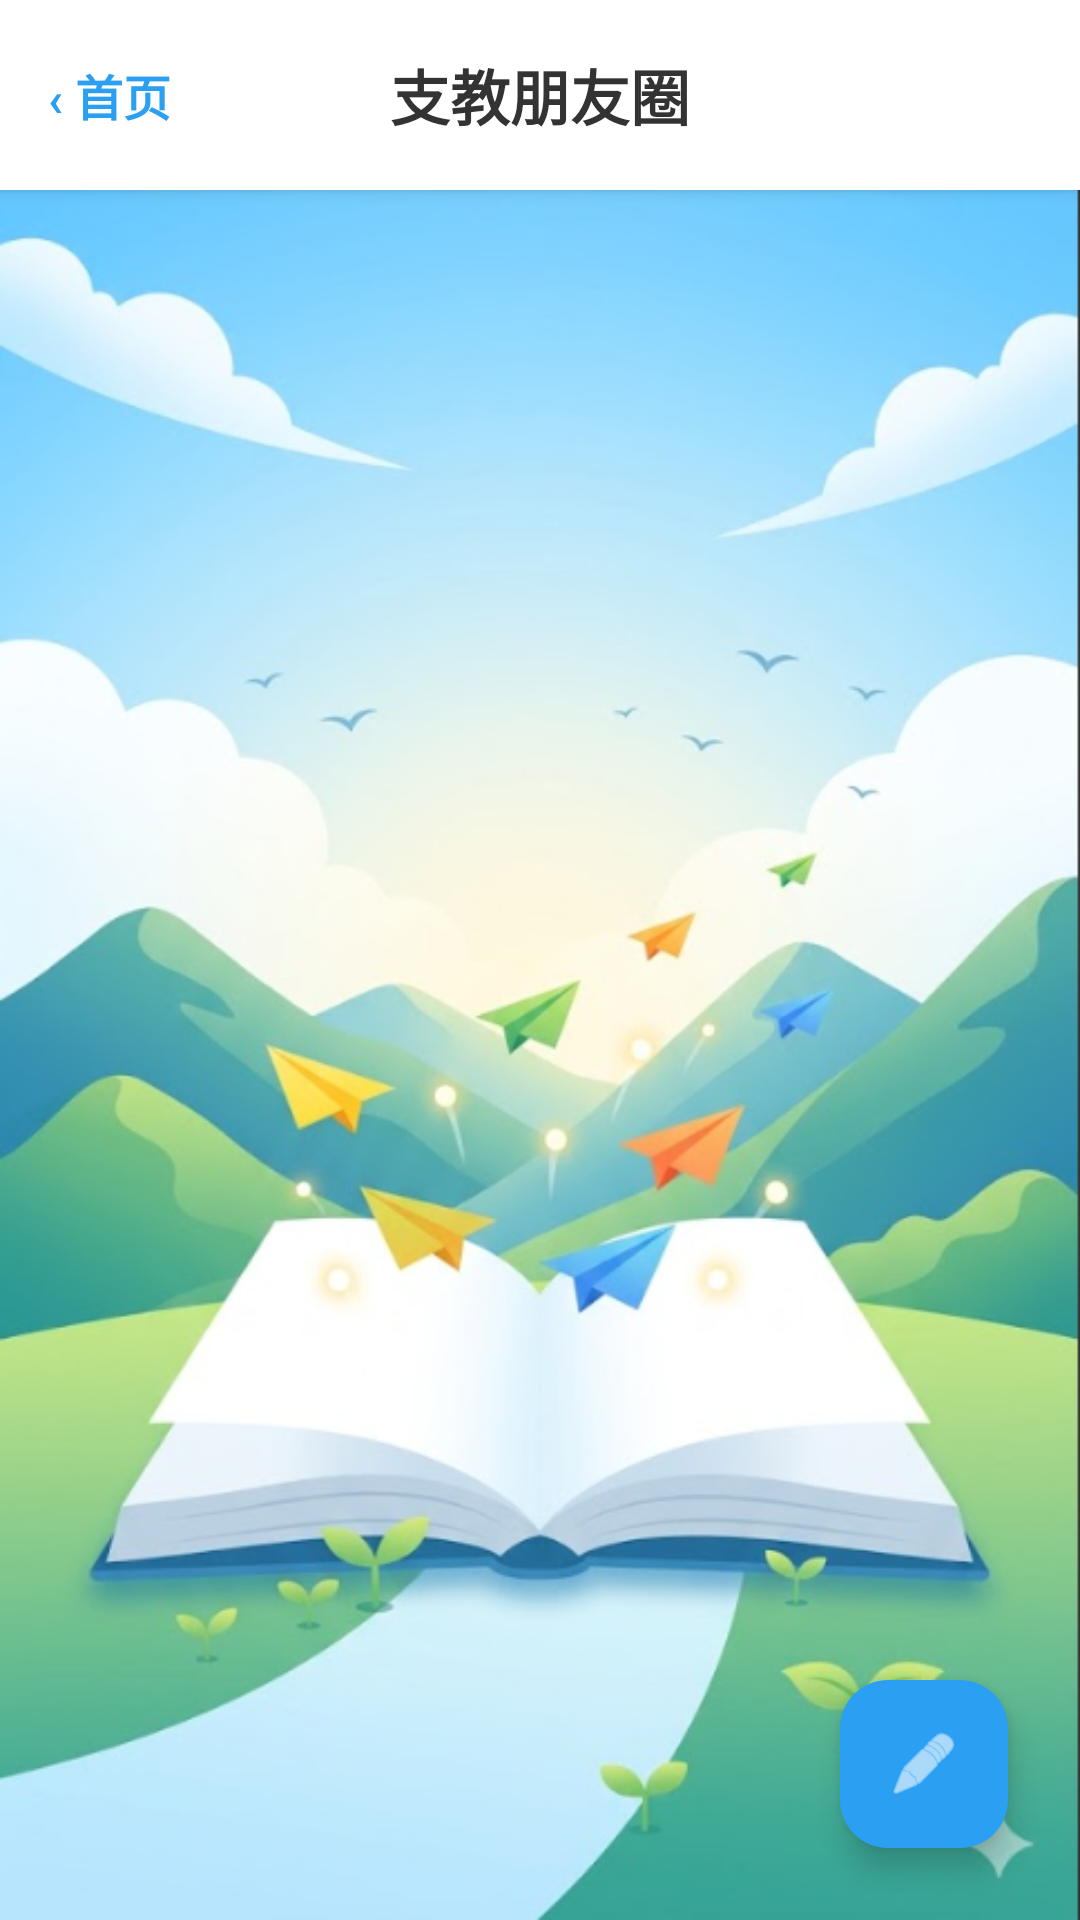

Icon click points for this 1080×1920 phone screenshot, format (x,y):
edit: (924,1764)
